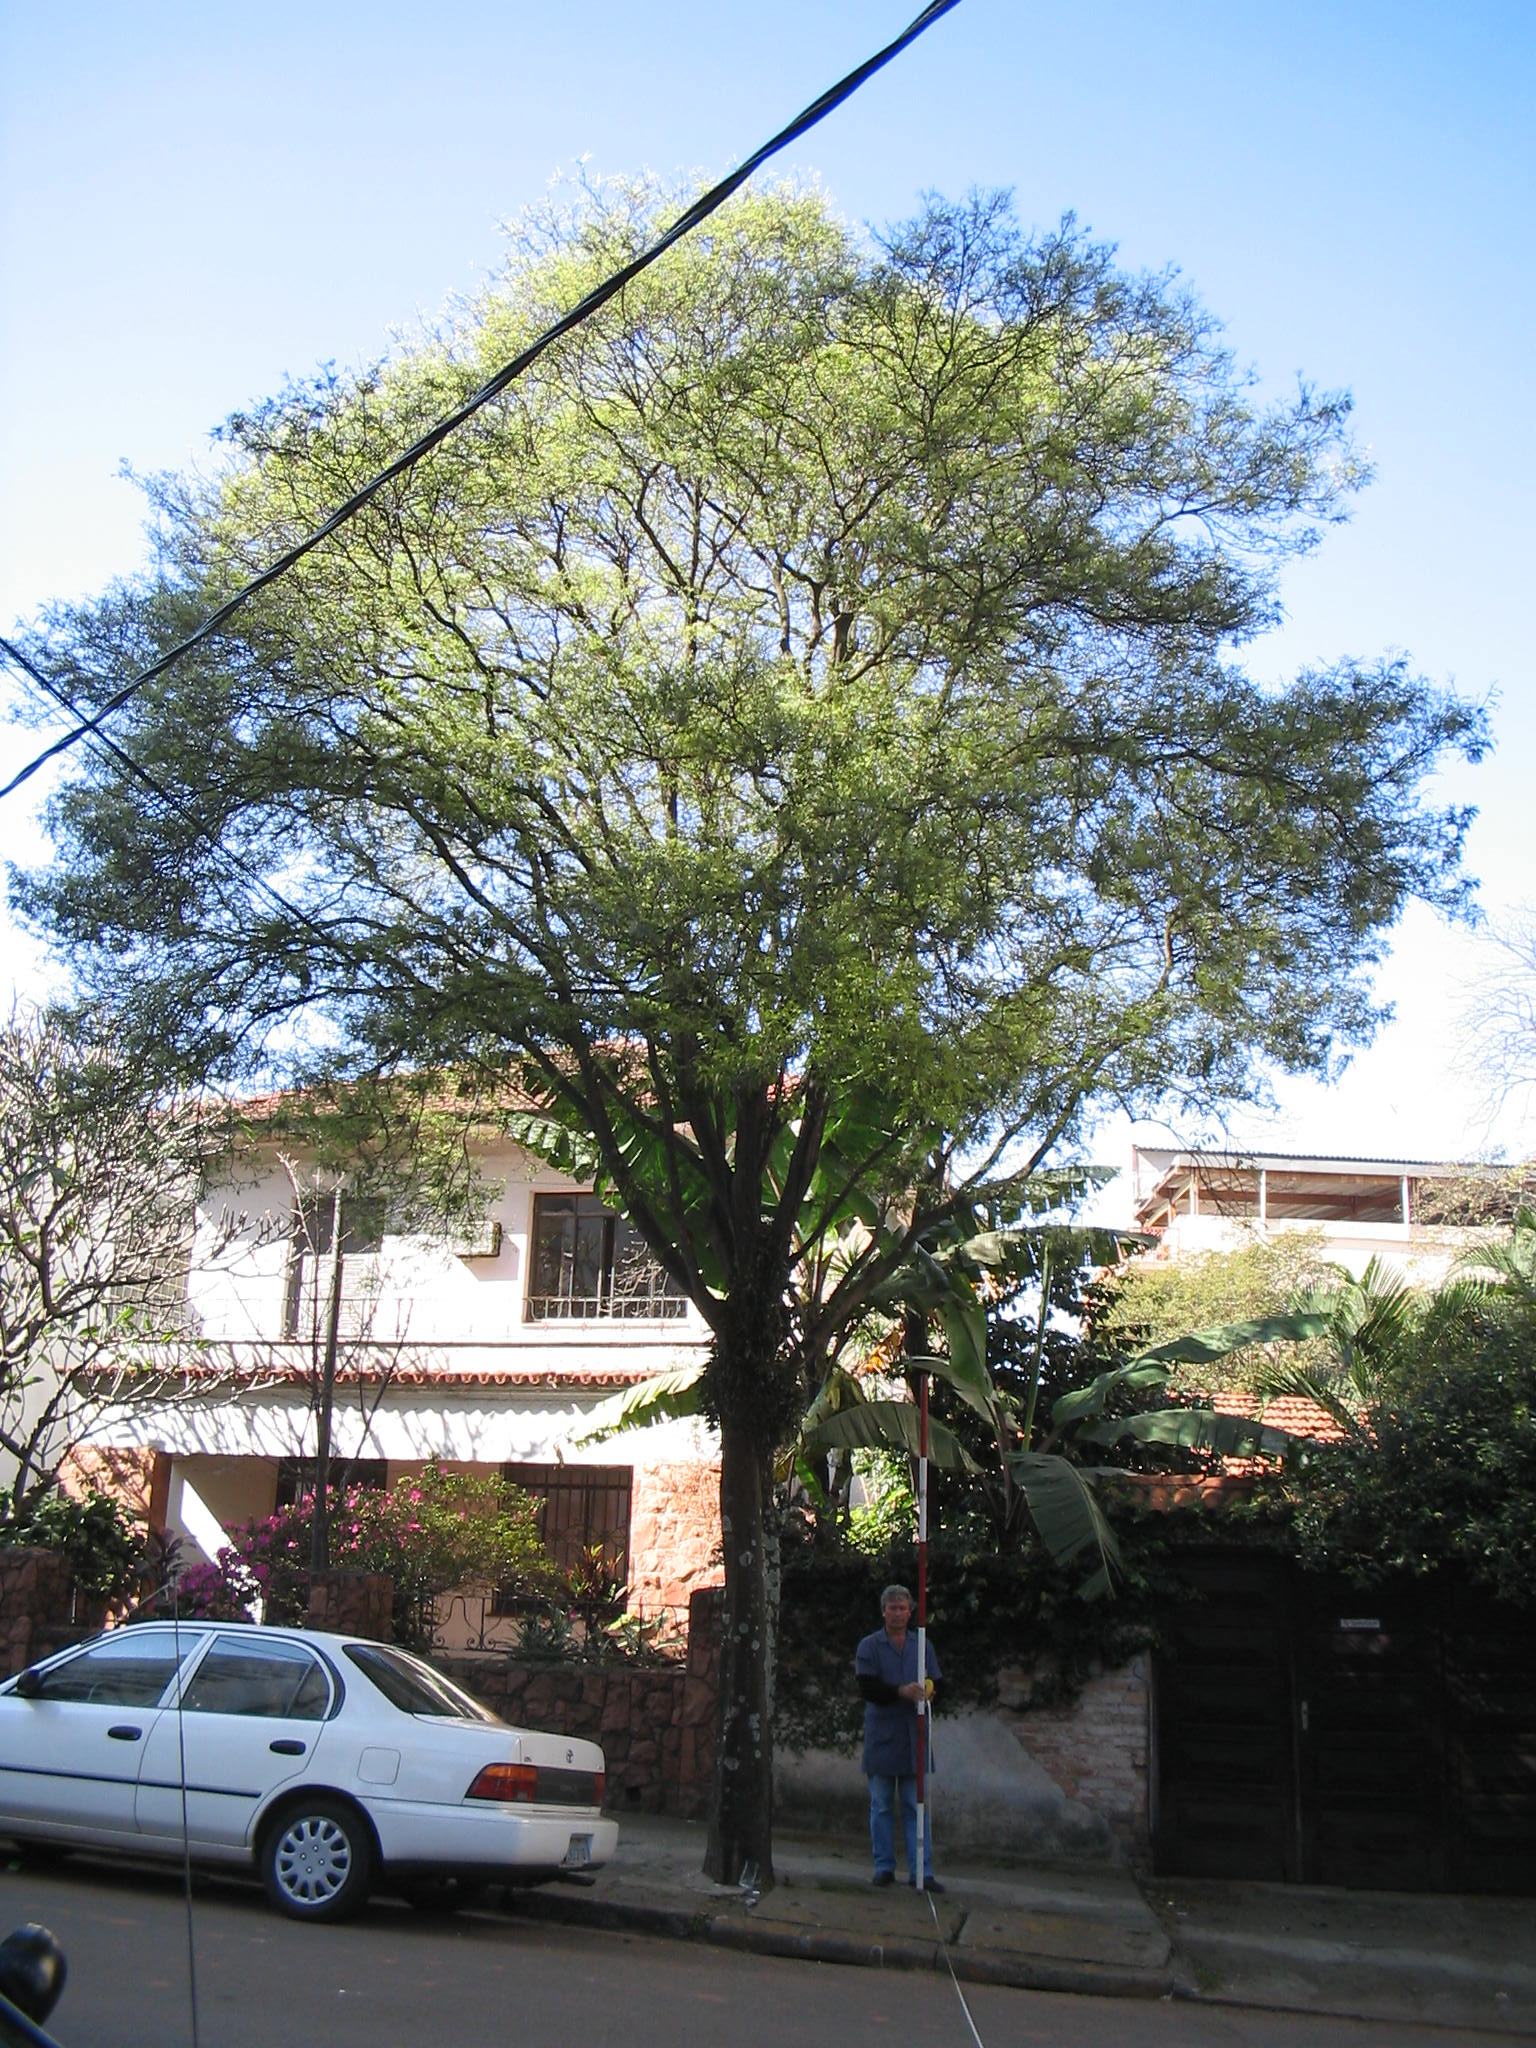crown: (19, 166, 1478, 1292)
stem: (662, 1403, 829, 1890)
stick: (874, 1371, 971, 1892)
tree: (11, 161, 1488, 1895), (3, 1029, 307, 1675)
